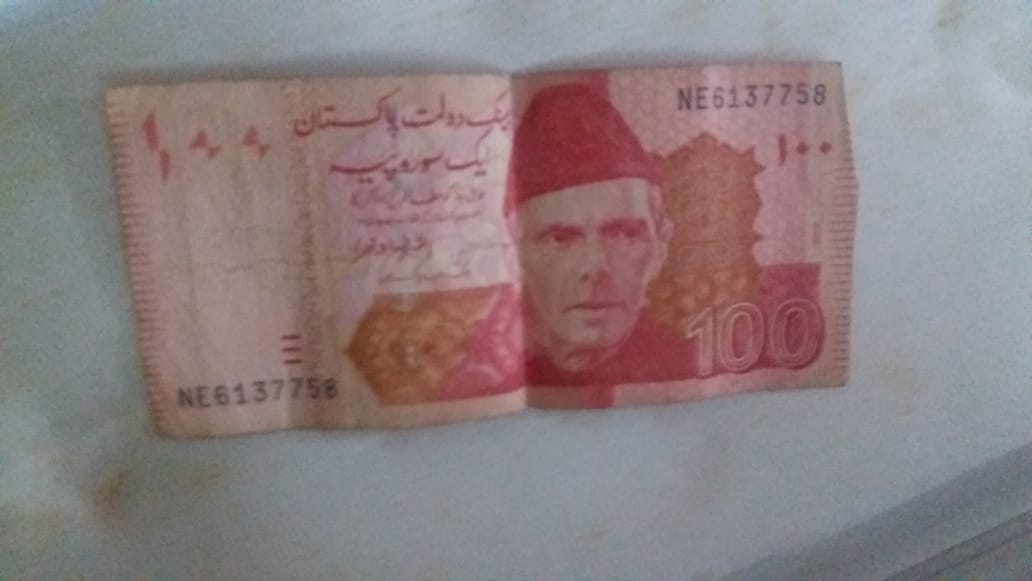100 rupee: (91, 42, 903, 453)
